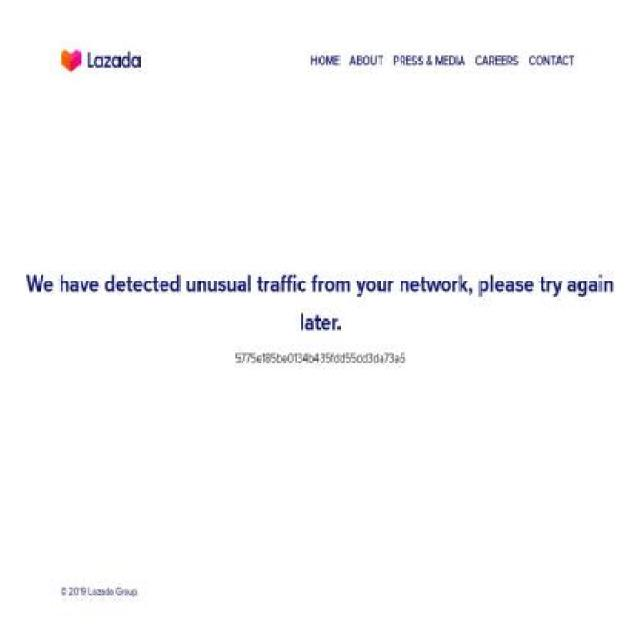button: (61, 40, 141, 82)
